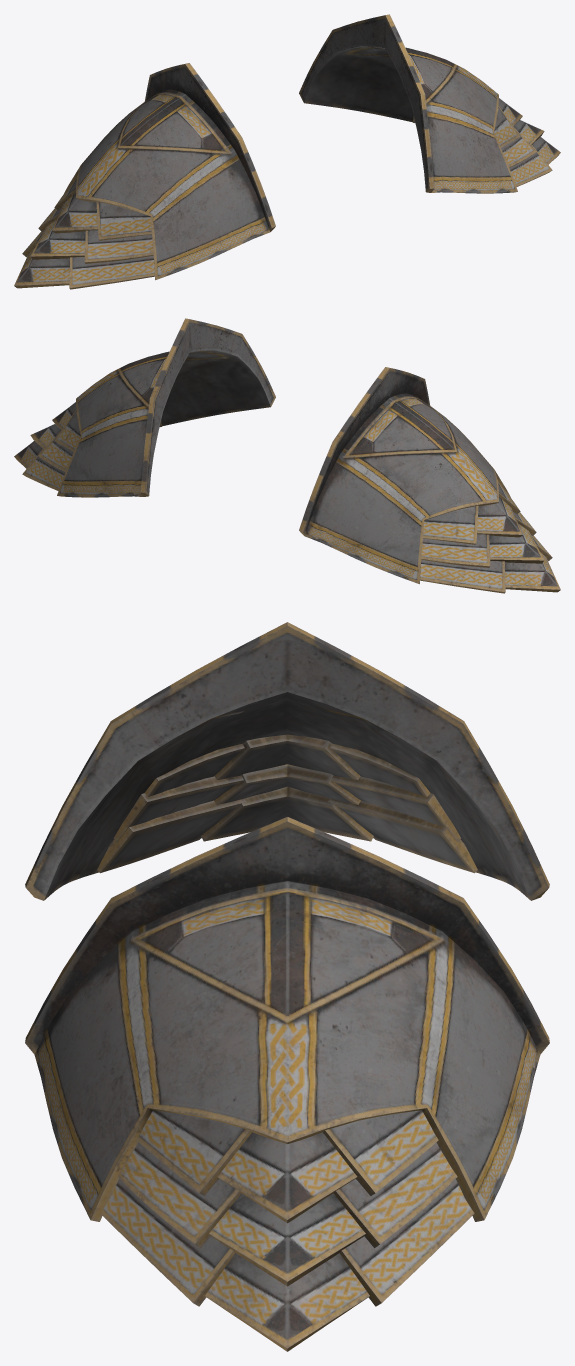
File: sk_dwarf_dain_pauldron_heavy_c.fbx
3 renders of one model, top to bottom at view 1: azimuth 30°, elevation 25°; view 2: azimuth 150°, elevation 25°; view 3: azimuth 270°, elevation 25°, orthographic. The views are drawn at different scales.
Parts seen in each view (by area): view 1: sk_dwarf_dain_pauldron_heavy_c; view 2: sk_dwarf_dain_pauldron_heavy_c; view 3: sk_dwarf_dain_pauldron_heavy_c.
Boxes of the visible parts, box(x1,y1,x2,y2) form: sk_dwarf_dain_pauldron_heavy_c: box(14, 14, 560, 289); sk_dwarf_dain_pauldron_heavy_c: box(14, 318, 560, 593); sk_dwarf_dain_pauldron_heavy_c: box(25, 622, 549, 1351).
Size of the model in its own units: 0.8374 by 0.348 by 0.2685.
1 material, 1 textured.
